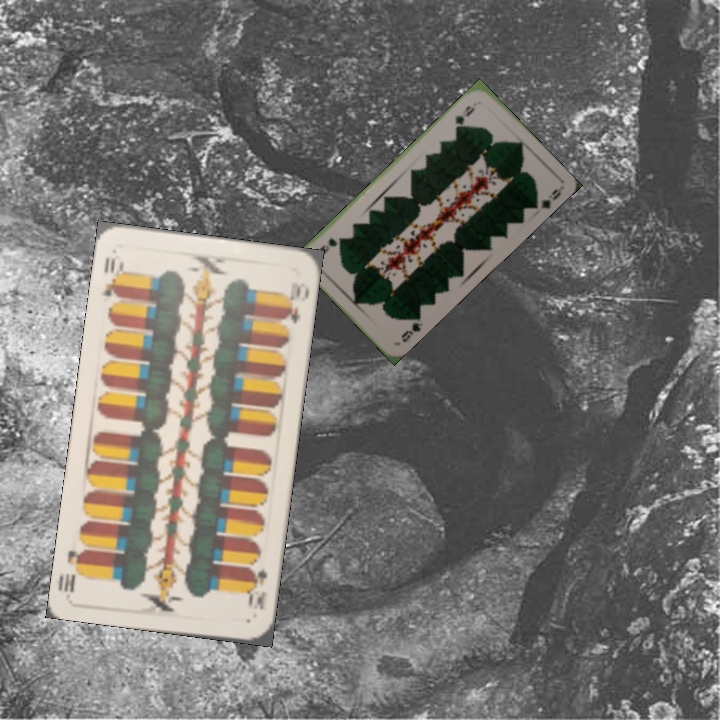E10: (243, 559, 270, 612), (97, 253, 126, 300)
G9: (451, 101, 478, 132), (397, 319, 425, 345)
